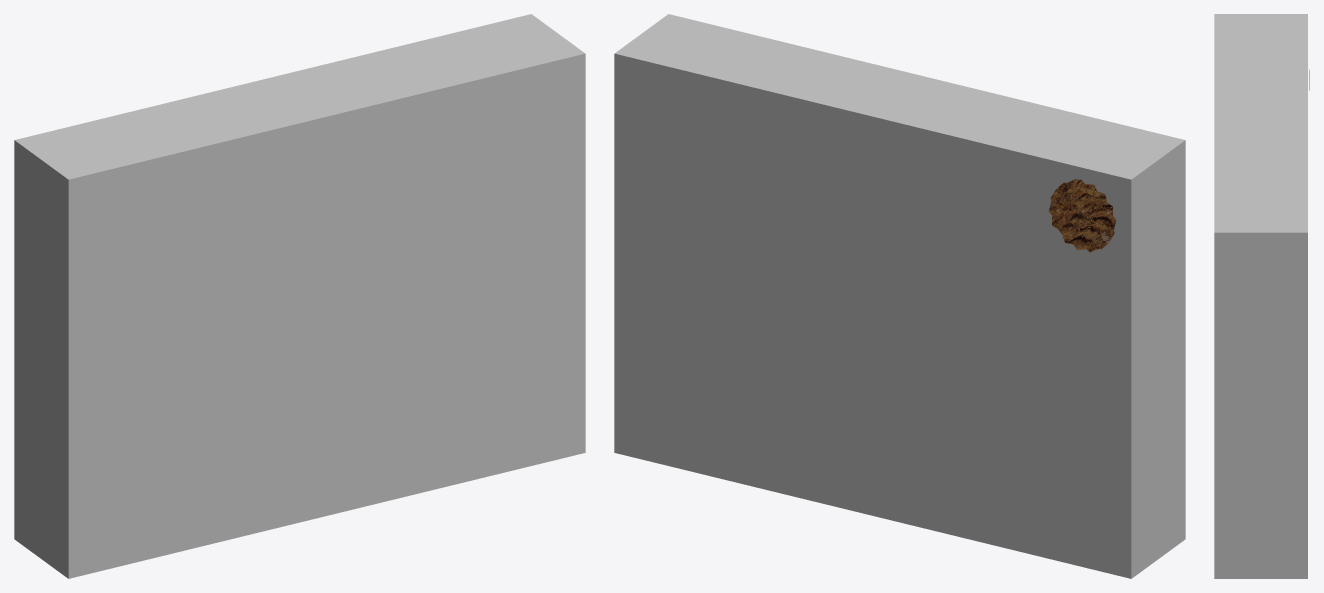
File: dung wall.fbx
3 views of the same model, side by side, from view 1: azimuth 30°, elevation 25°; view 2: azimuth 150°, elevation 25°; view 3: azimuth 270°, elevation 25° (orthographic). The views are drawn at different scales.
Visible parts, largest first — view 1: Cube; view 2: Cube, Cylinder.013; view 3: Cube.
Boxes of the visible parts, box(x1,y1,x2,y2) form: Cube: box(14, 14, 585, 578); Cube: box(614, 14, 1185, 578); Cylinder.013: box(1049, 179, 1116, 252); Cube: box(1214, 14, 1307, 578).
Bounding box in the file's own units: 519 × 383 × 95.77.
